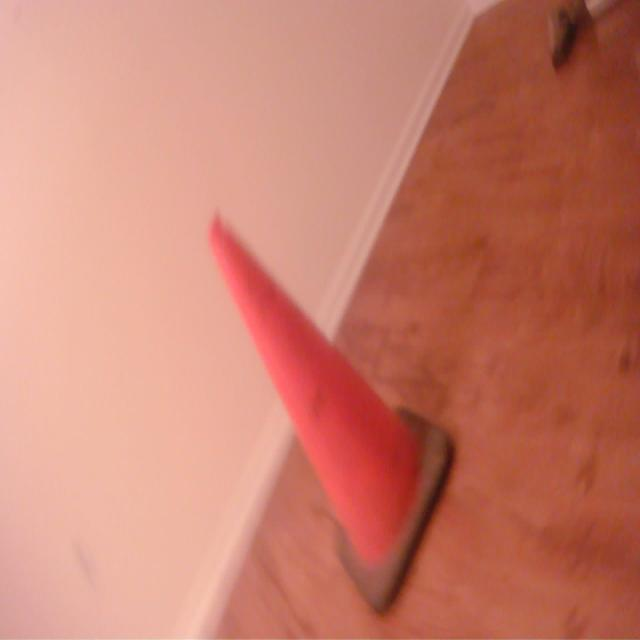traffic cone: (205, 209, 459, 625)
